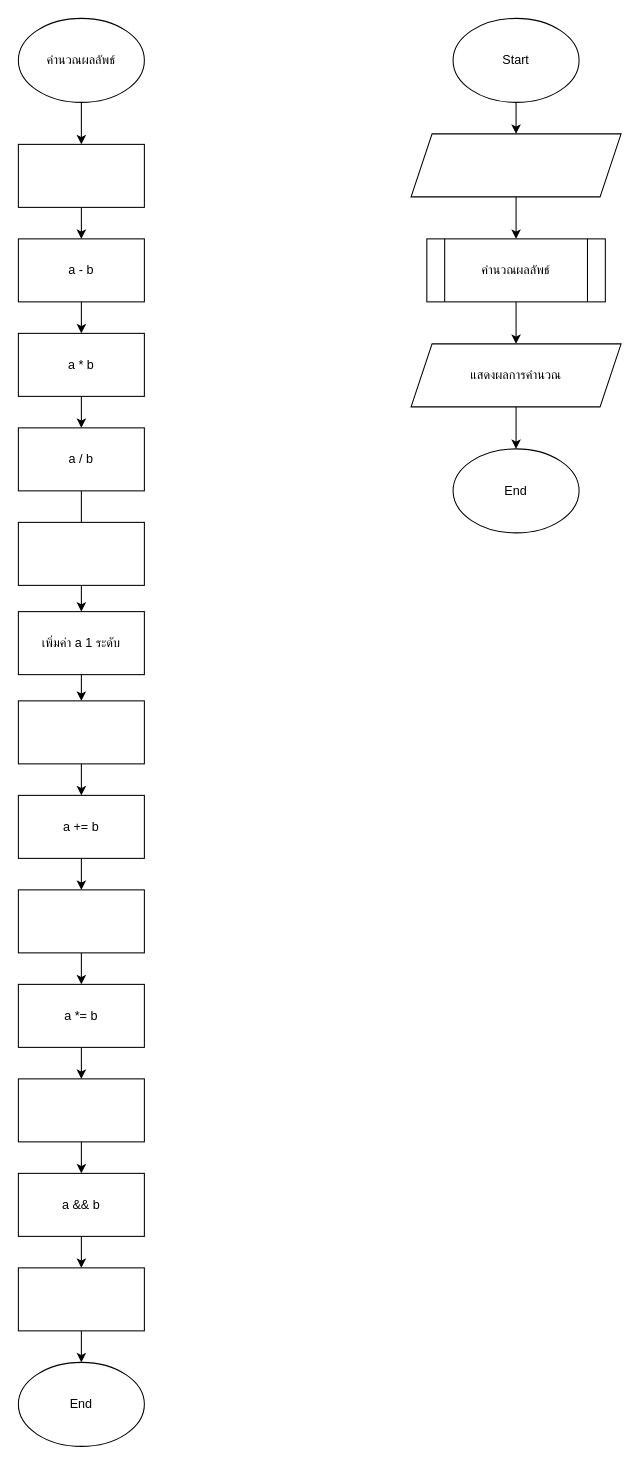
The diagram is 639 pixels wide and 1465 high, and some of its shapes have lost their labels. The shapes that lost their labels are listed below. From the top down, each one's box as (x1, y1, x2, y2) in pixels, then its label:
(17, 143, 144, 207): a + b
(410, 133, 621, 197): รับค่าตัวแปร a, b จากผู้ใช้
(17, 521, 144, 585): a % b
(17, 700, 144, 764): ลดค่า a 1 ระดับ
(17, 889, 144, 953): a -= b
(17, 1078, 144, 1142): a %= b
(17, 1267, 144, 1331): a || b
